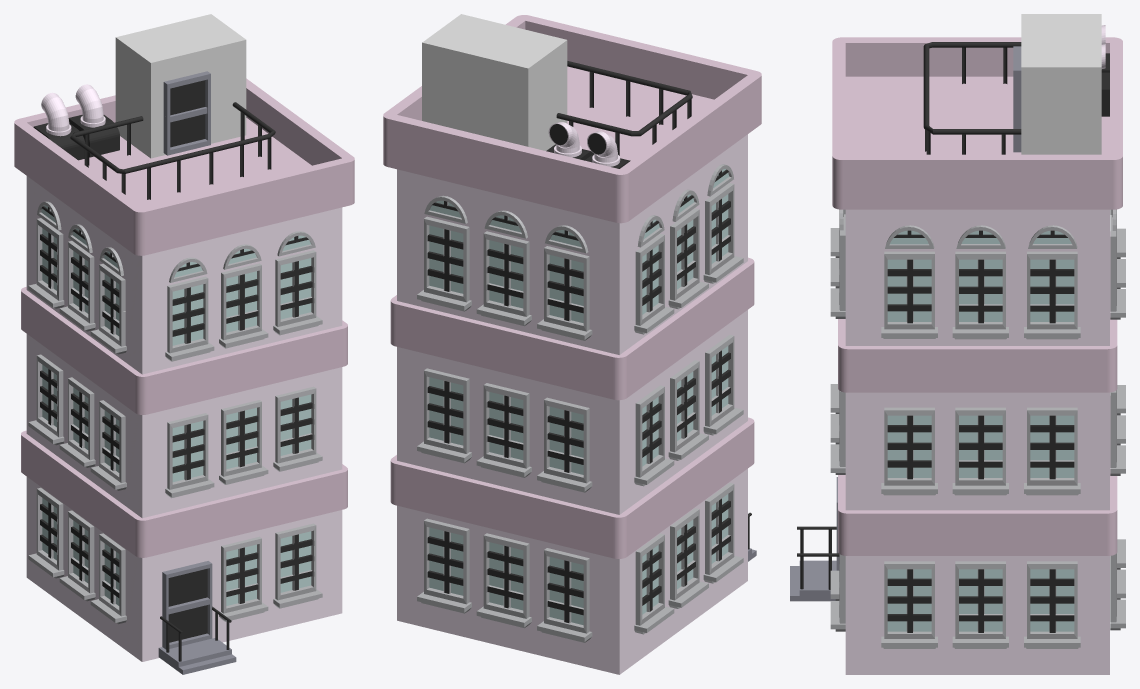
Rendered from binasong.fbx.
3 views of the same model, side by side, from view 1: azimuth 30°, elevation 25°; view 2: azimuth 150°, elevation 25°; view 3: azimuth 270°, elevation 25° (orthographic). The views are drawn at different scales.
Visible parts, largest first — view 1: kolonlar, Cube, Cube.011, Cube.158, Cube.007, Cube.136, Cylinder.001, Cube.160, Cube.003, Cube.002, Cube.161, Cylinder.015 (+1 smaller); view 2: kolonlar, Cube, Cube.011, Cube.158, Cube.007, Cube.136, Cylinder.001, Cylinder.015, Cylinder.002; view 3: kolonlar, Cube, Cube.011, Cube.136, Cube.007, Cube.158, Cylinder.001, Cube.160, Cube.161, Cube.001.
Part boxes in pixels (x1,y1,x2,y2): kolonlar: (14,78,354,557); Cube: (26,176,342,661); Cube.011: (28,201,322,624); Cube.158: (115,14,246,158); Cube.007: (40,206,312,603); Cube.136: (41,205,311,605); Cylinder.001: (70,102,275,661); Cube.160: (158,561,236,674); Cube.003: (168,568,207,642); Cube.002: (170,80,205,147); Cube.161: (163,71,210,155); Cylinder.015: (41,84,105,136); kolonlar: (383,15,761,558); Cube: (397,134,747,674); Cube.011: (417,164,743,642); Cube.158: (422,14,567,150); Cube.007: (428,169,730,622); Cube.136: (429,169,729,625); Cylinder.001: (556,61,751,549); Cylinder.015: (548,122,620,166); Cylinder.002: (549,124,605,154); kolonlar: (832,37,1122,555); Cube: (845,209,1109,674); Cube.011: (830,209,1125,648); Cube.136: (887,230,1074,631); Cube.007: (843,210,1112,632); Cube.158: (1021,14,1101,154); Cylinder.001: (797,42,1021,589); Cube.160: (790,477,839,601); Cube.161: (1013,46,1021,152); Cube.001: (1101,53,1109,116).
Size of the model in its own units: 493 by 1103 by 562.
